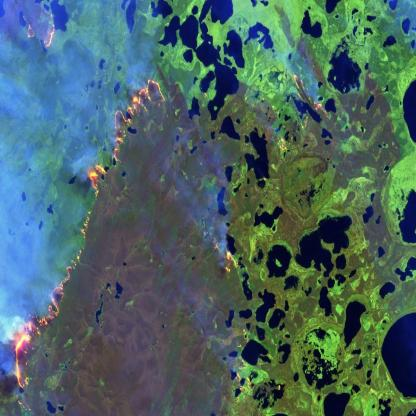fire: (0, 0, 170, 416), (286, 60, 334, 134), (205, 216, 245, 285), (228, 320, 255, 408)
